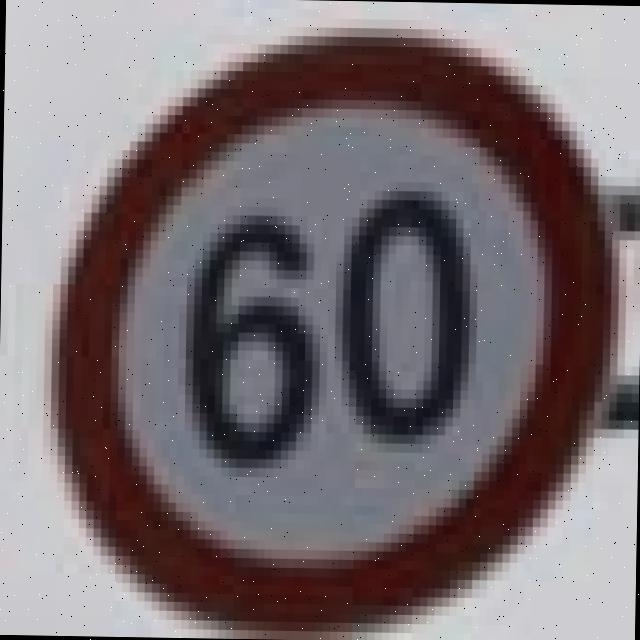Ograniczenie predkosci do 60: (39, 13, 623, 636)
